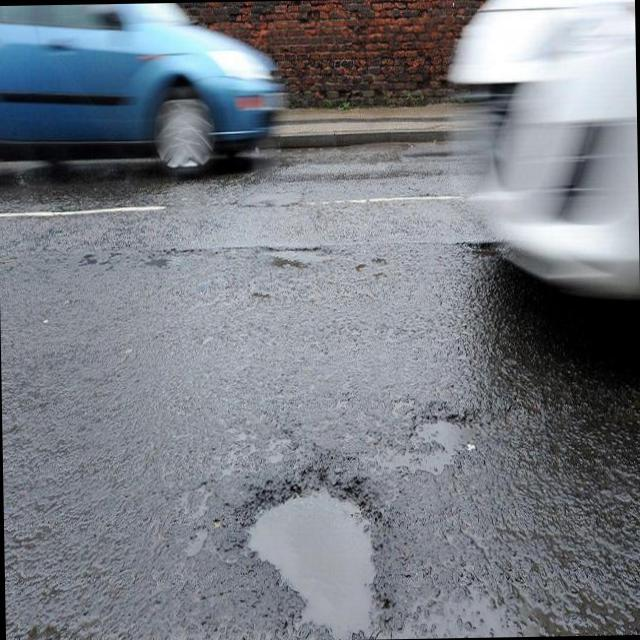Pothole: (243, 467, 386, 639)
